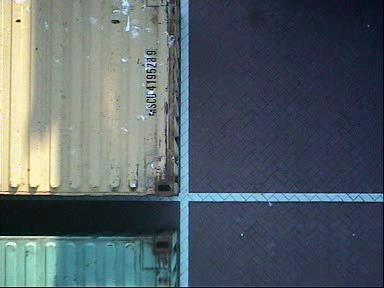groundmarker_2: (112, 168, 137, 235), (87, 30, 141, 54)
